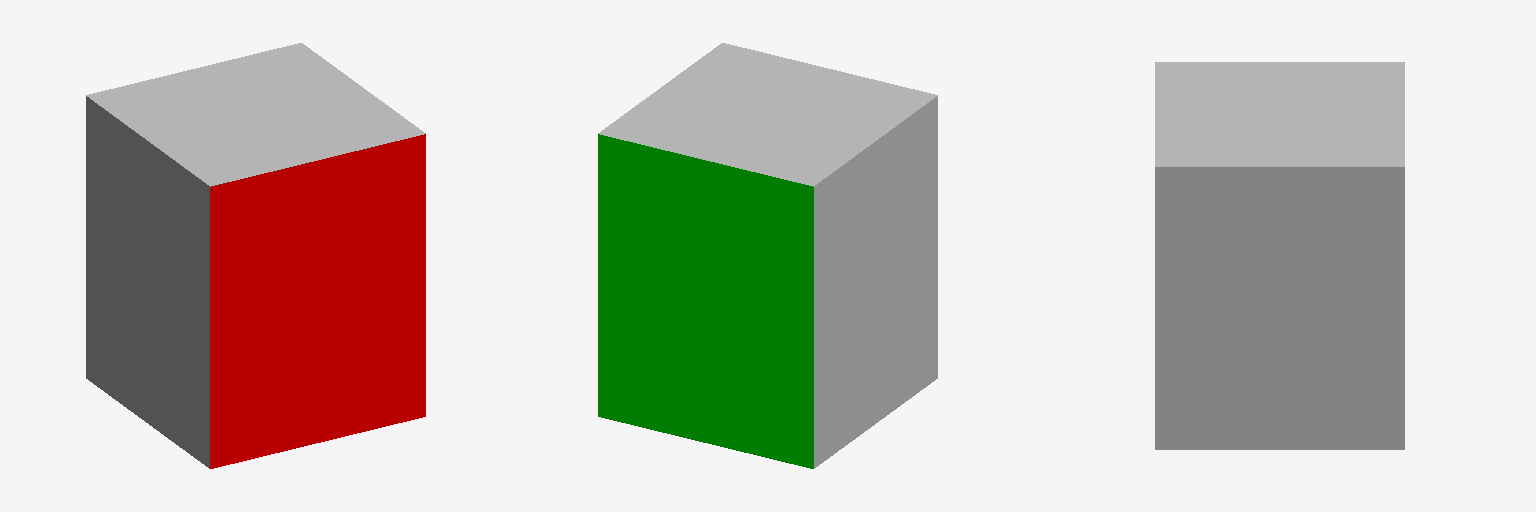
File: cornell_box.obj
3 views of the same model, side by side, from view 1: azimuth 30°, elevation 25°; view 2: azimuth 150°, elevation 25°; view 3: azimuth 270°, elevation 25° (orthographic).
Visible parts, largest first — view 1: Plane.002, Plane.005, Plane.001; view 2: Plane.003, Plane.005, Plane.001; view 3: Plane.004, Plane.001.
Boxes of the visible parts, x1=… form: Plane.002: x1=210, y1=134, x2=425, y2=468; Plane.005: x1=86, y1=96, x2=209, y2=468; Plane.001: x1=86, y1=43, x2=425, y2=186; Plane.003: x1=598, y1=134, x2=813, y2=468; Plane.005: x1=814, y1=96, x2=937, y2=468; Plane.001: x1=598, y1=43, x2=937, y2=186; Plane.004: x1=1155, y1=167, x2=1404, y2=449; Plane.001: x1=1155, y1=62, x2=1404, y2=166.
Bounding box in the file's own units: 16 × 20 × 16.